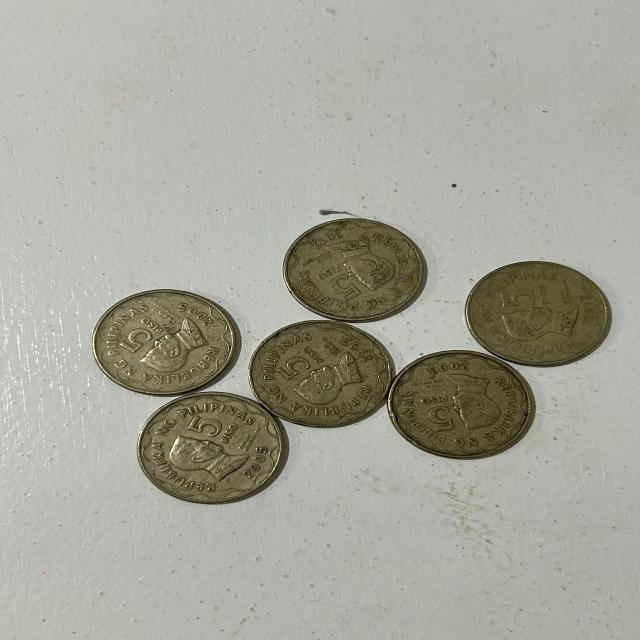5_Old_Front: (181, 408, 248, 451), (495, 283, 562, 321), (316, 265, 371, 307), (269, 346, 328, 383), (414, 391, 461, 435), (115, 320, 173, 350)
